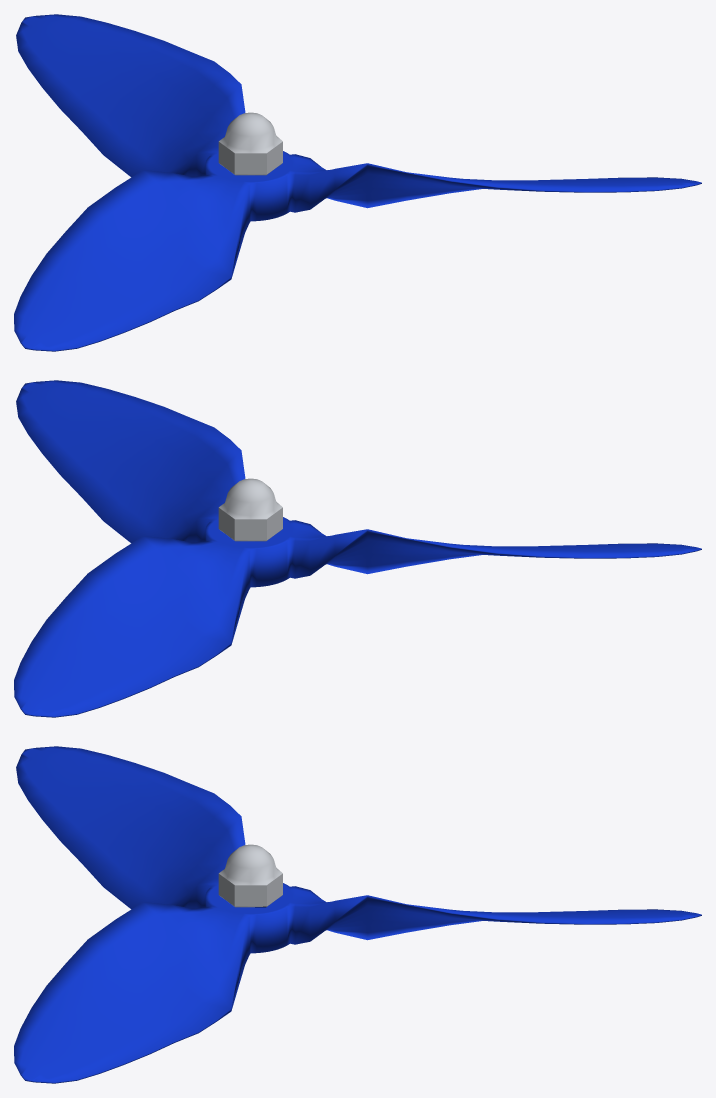
File: Azure_5140.fbx
3 renders of one model, top to bottom at view 1: azimuth 30°, elevation 25°; view 2: azimuth 150°, elevation 25°; view 3: azimuth 270°, elevation 25°, orthographic.
Parts seen in each view (by area): view 1: R2_PROP_Azure_5140, R2_NUT_Azure_5140; view 2: R2_PROP_Azure_5140, R2_NUT_Azure_5140; view 3: R2_PROP_Azure_5140, R2_NUT_Azure_5140.
Boxes of the visible parts, left/top/right/bottom form: R2_PROP_Azure_5140: left=14, top=14, right=701, bottom=351; R2_NUT_Azure_5140: left=218, top=112, right=282, bottom=175; R2_PROP_Azure_5140: left=14, top=380, right=701, bottom=717; R2_NUT_Azure_5140: left=218, top=478, right=282, bottom=541; R2_PROP_Azure_5140: left=14, top=746, right=701, bottom=1083; R2_NUT_Azure_5140: left=218, top=844, right=282, bottom=907.
Bounding box in the file's own units: 0.1122 × 0.0178 × 0.0987.
1 material, 1 textured.
